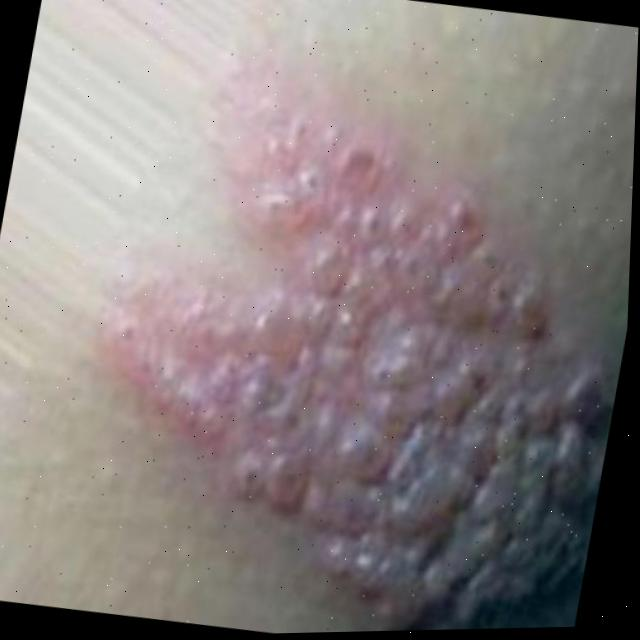Shingles: (67, 35, 638, 638)
